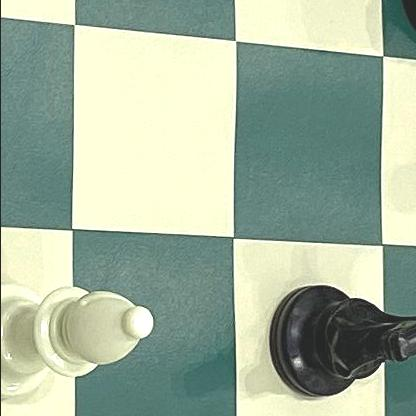black-knight: (265, 274, 416, 416)
white-bishop: (0, 271, 167, 415)
